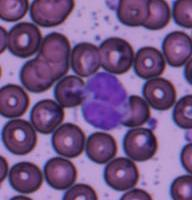M: (82, 71, 128, 131)
